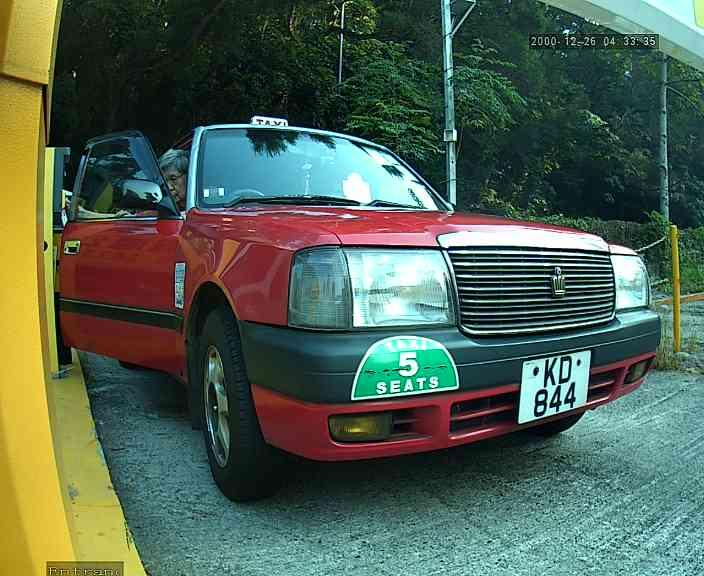Car: (89, 16, 629, 505)
License Plate: (510, 348, 601, 420)
